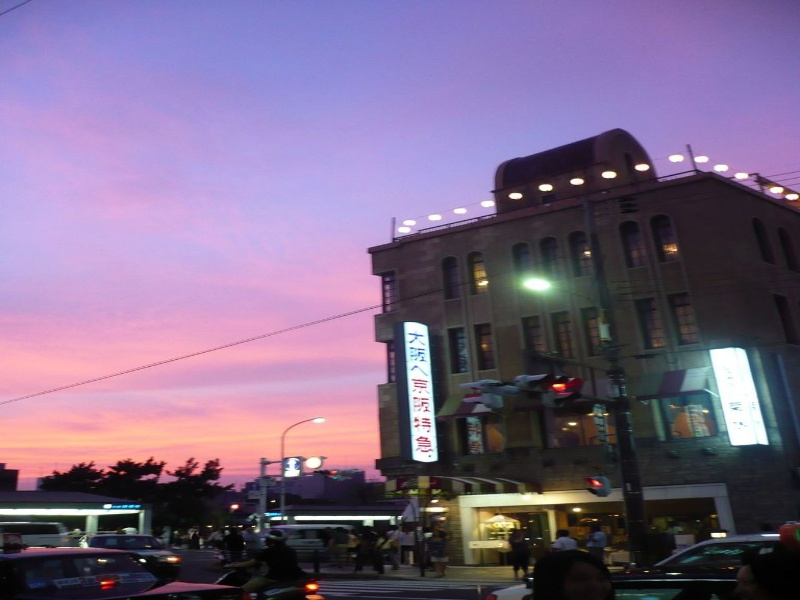red_light: (541, 367, 584, 394)
